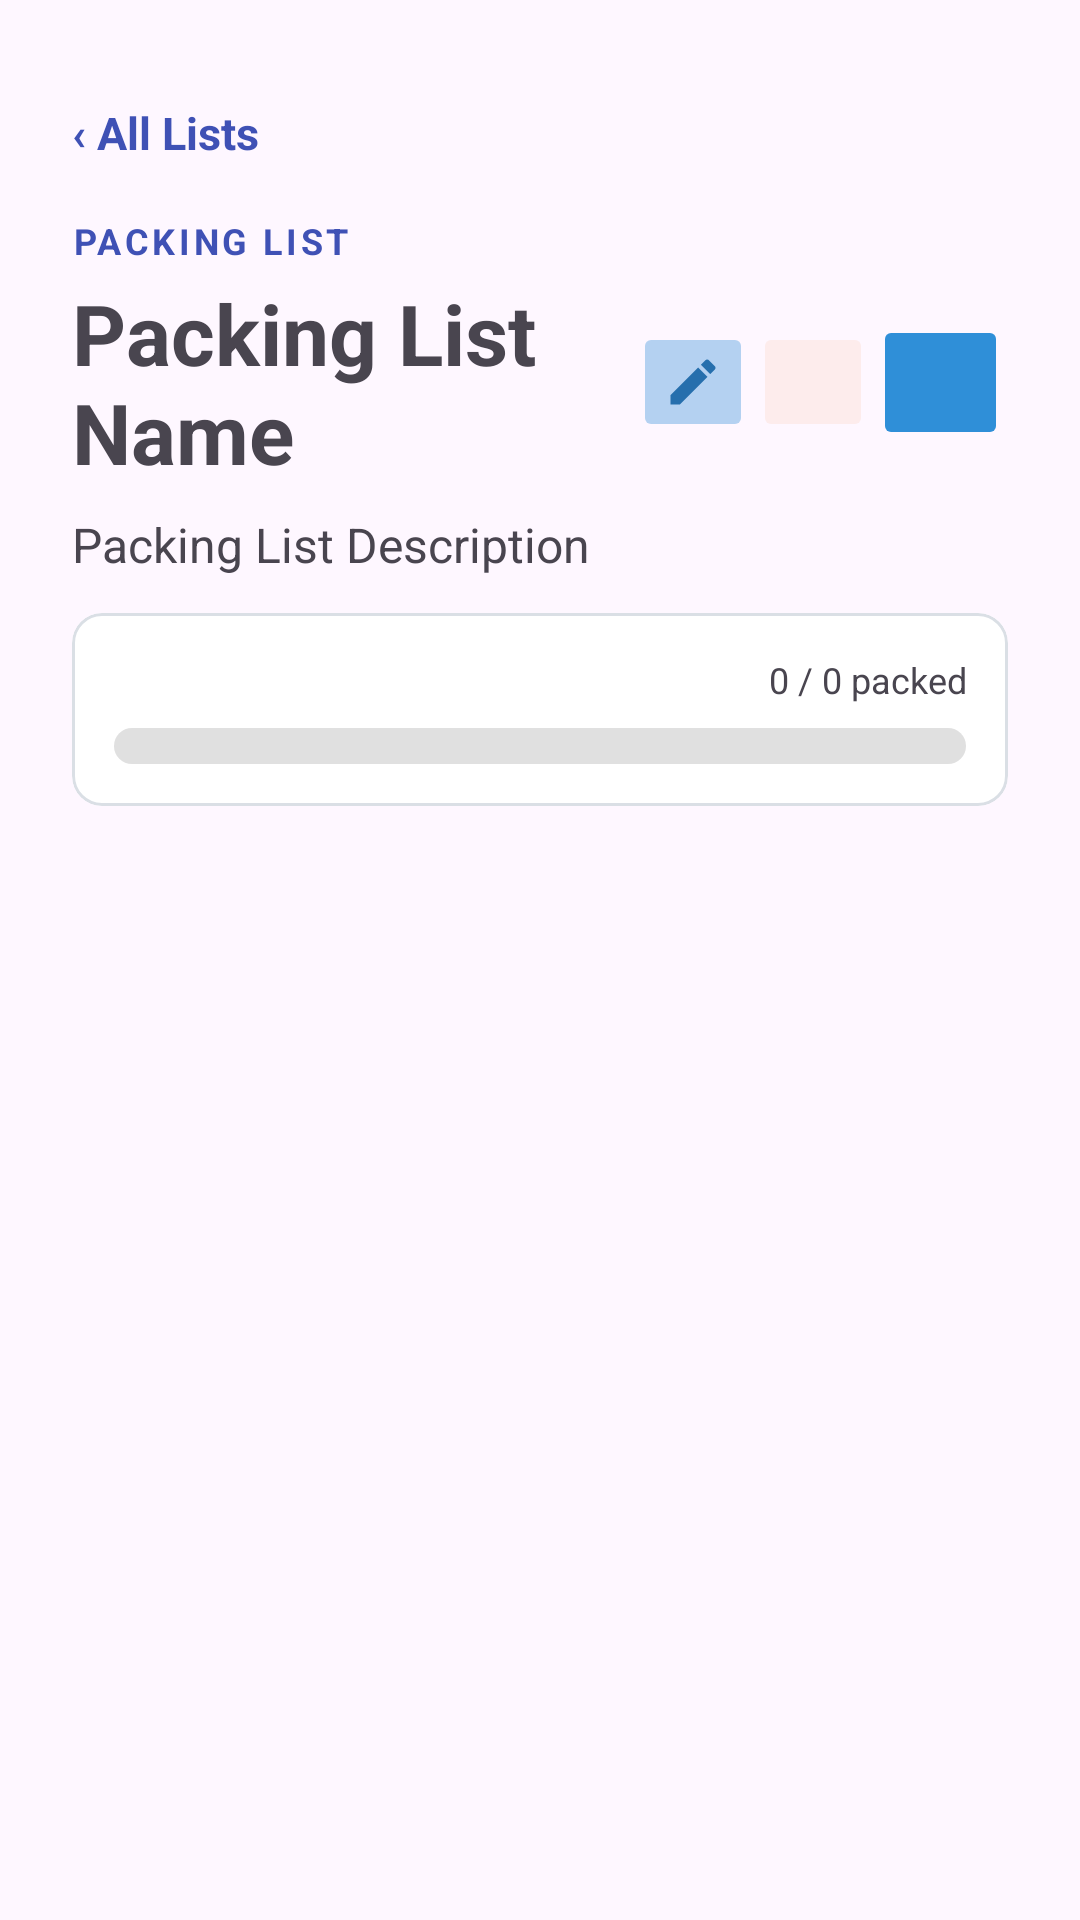

Named icons in this screenshot (1080×1920) and their centers, (x,y):
Edit packing list: (693,382)
